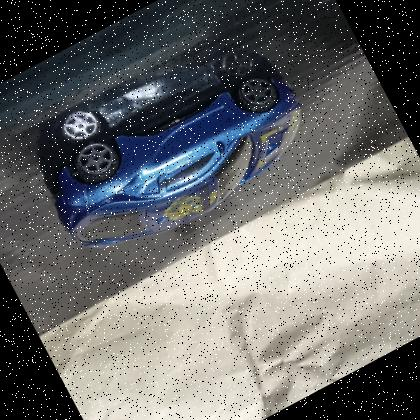Car: (54, 72, 302, 248)
